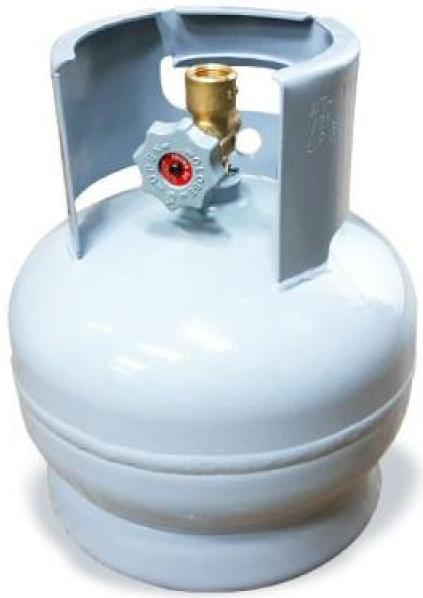cylinder: (1, 1, 423, 598)
